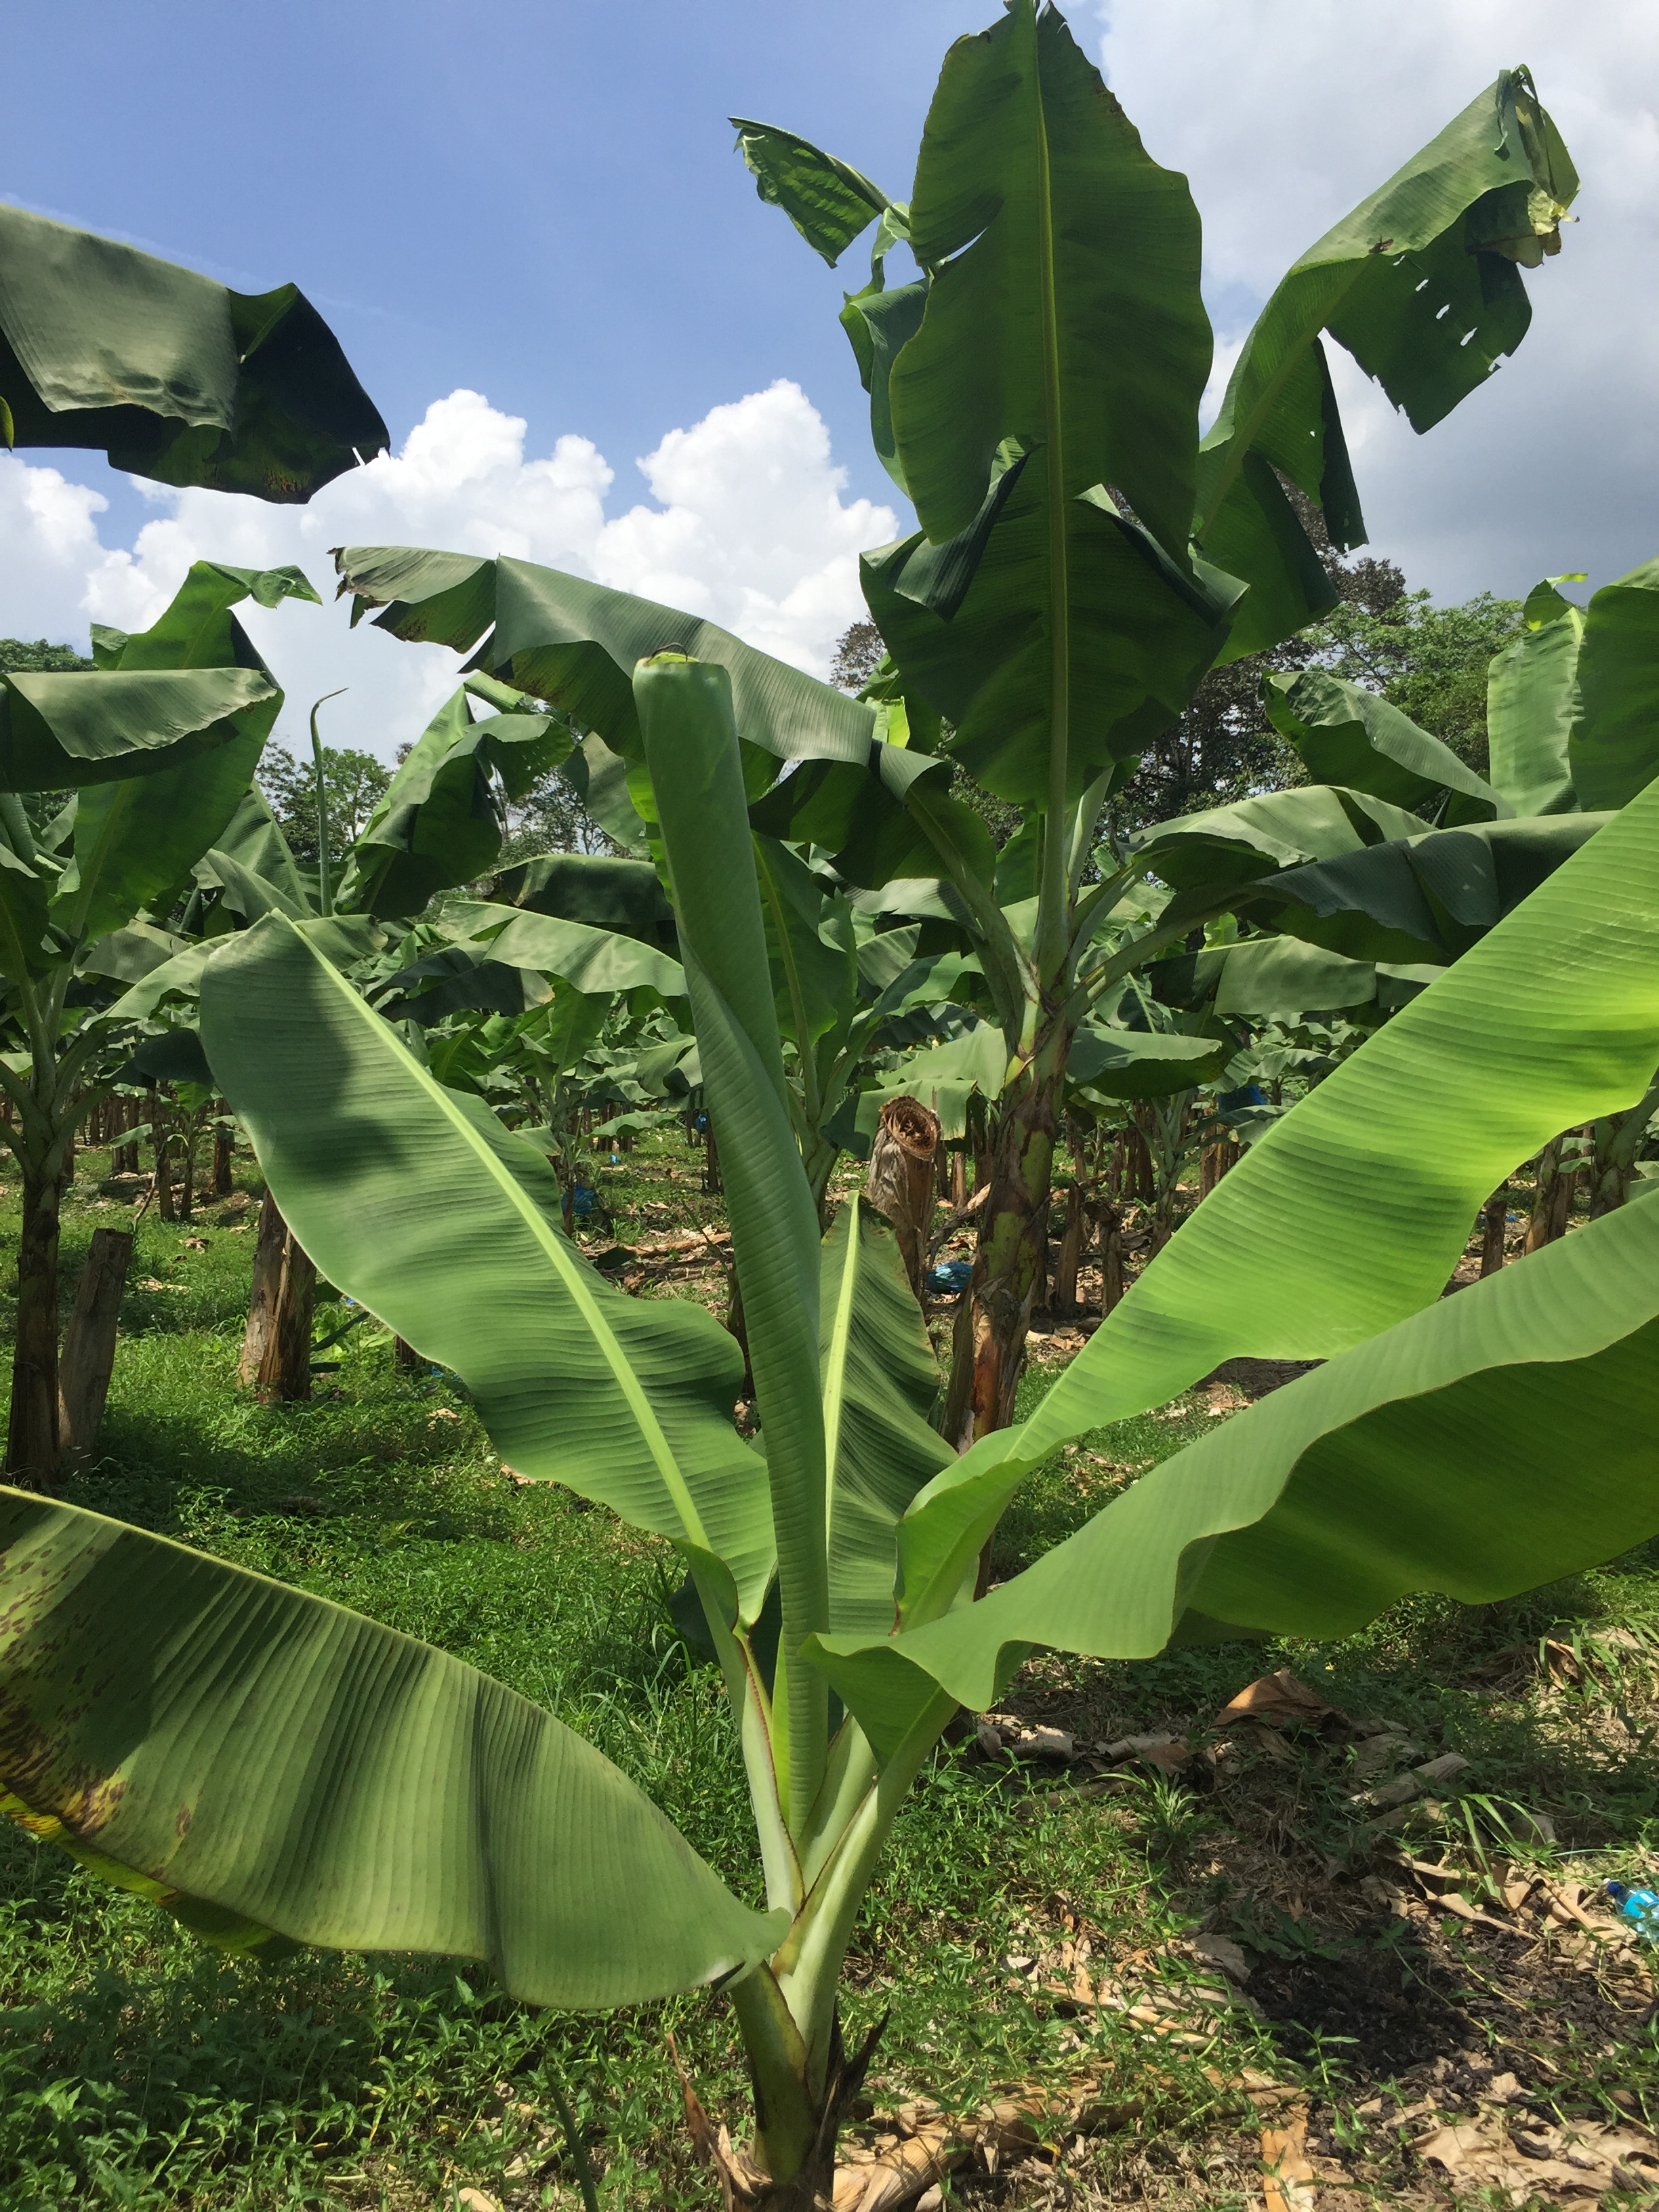candleleafs: (631, 648, 829, 1860), (310, 686, 350, 918)
